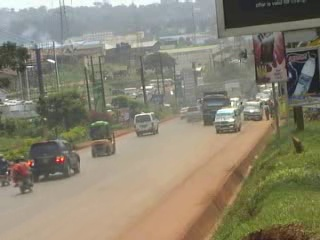Car: (26, 137, 82, 181), (186, 104, 201, 123), (180, 104, 188, 119)
Motorcycle: (12, 152, 39, 195), (0, 151, 13, 187)
